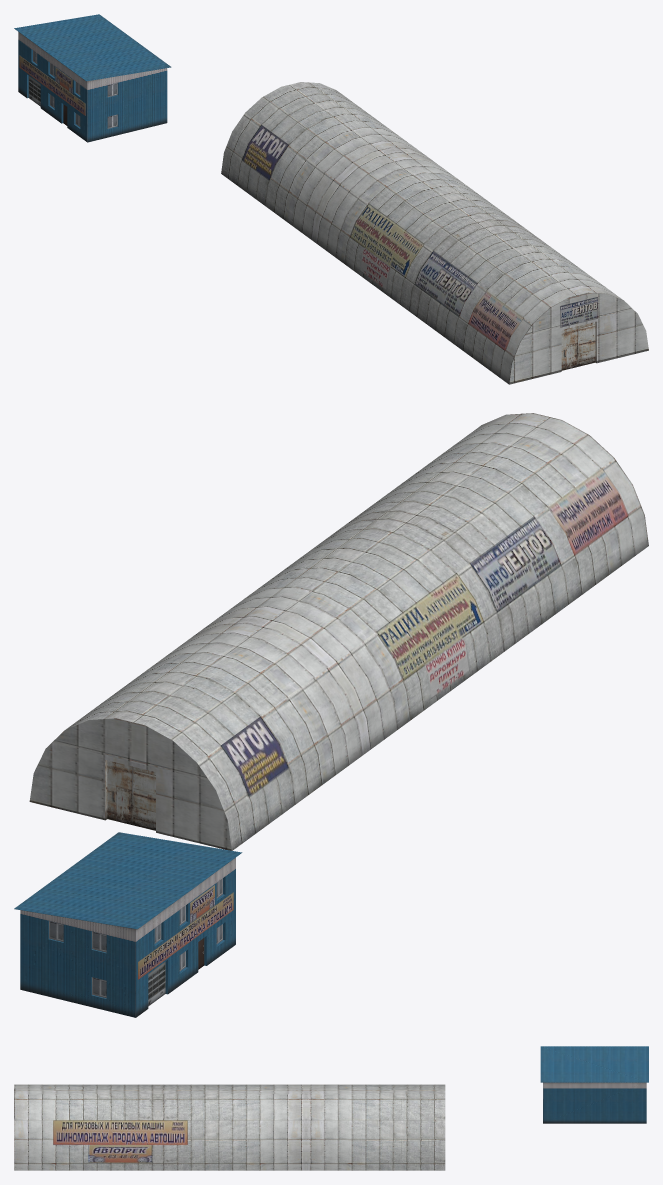
The model's file is r402_druzhino_avtomagazin.FBX.
3 views of the same model, one above another, from view 1: azimuth 30°, elevation 25°; view 2: azimuth 150°, elevation 25°; view 3: azimuth 270°, elevation 25° (orthographic). The views are drawn at different scales.
Parts seen in each view (by area): view 1: r402_druzhino_avtomagazin2, r402_druzhino_avtomagazin; view 2: r402_druzhino_avtomagazin2, r402_druzhino_avtomagazin; view 3: r402_druzhino_avtomagazin2, r402_druzhino_avtomagazin.
Boxes of the visible parts, x1,y1,x2,y2 form: r402_druzhino_avtomagazin2: (221,82,648,384); r402_druzhino_avtomagazin: (14,14,171,142); r402_druzhino_avtomagazin2: (29,413,648,850); r402_druzhino_avtomagazin: (14,832,242,1017); r402_druzhino_avtomagazin2: (14,1084,445,1170); r402_druzhino_avtomagazin: (540,1046,648,1123).
Size of the model in its own units: 21.11 by 73.65 by 6.93.
